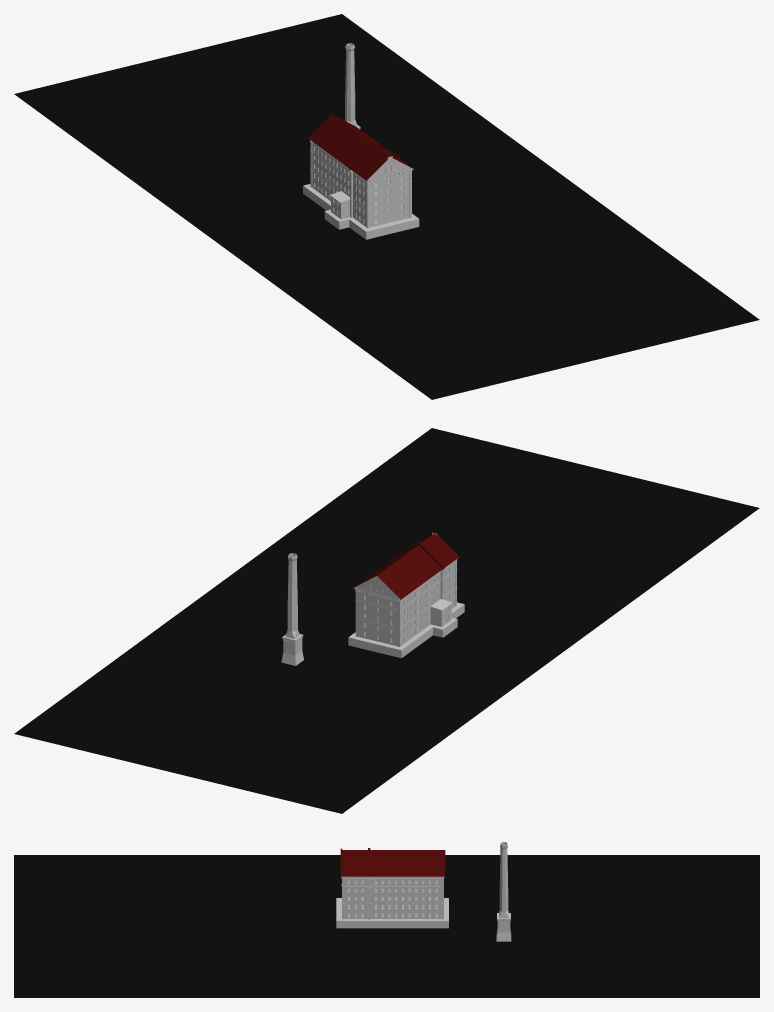
The model's file is melnica.obj.
The picture shows the model from 3 angles, top to bottom: view 1: azimuth 30°, elevation 25°; view 2: azimuth 150°, elevation 25°; view 3: azimuth 270°, elevation 25°; orthographic projection. The views are drawn at different scales.
Parts seen in each view (by area): view 1: Plane, TrubaKot; view 2: Plane, TrubaKot; view 3: Plane, TrubaKot.
Boxes of the visible parts, left/top/right/bottom form: Plane: left=14, top=14, right=759, bottom=399; TrubaKot: left=303, top=43, right=419, bottom=239; Plane: left=14, top=428, right=759, bottom=813; TrubaKot: left=281, top=532, right=464, bottom=665; Plane: left=14, top=855, right=759, bottom=997; TrubaKot: left=336, top=842, right=511, bottom=941.
Bounding box in the file's own units: 26.2 × 8.54 × 57.82.
